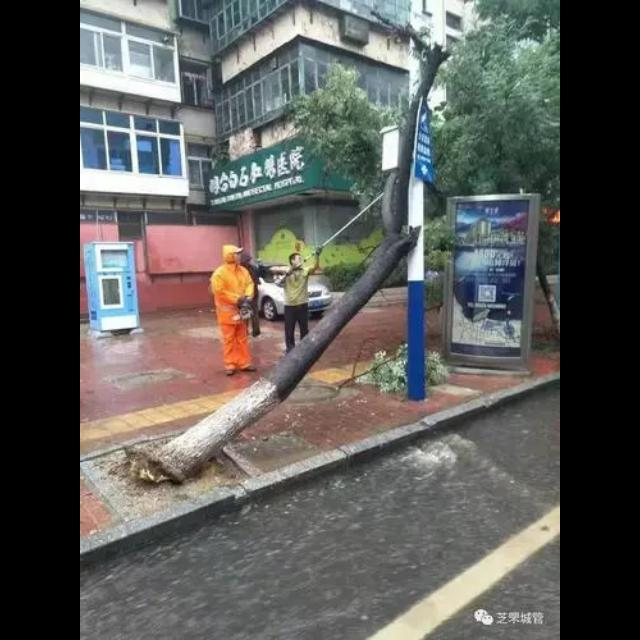fallen_tree: (151, 13, 445, 487), (417, 42, 559, 342)
